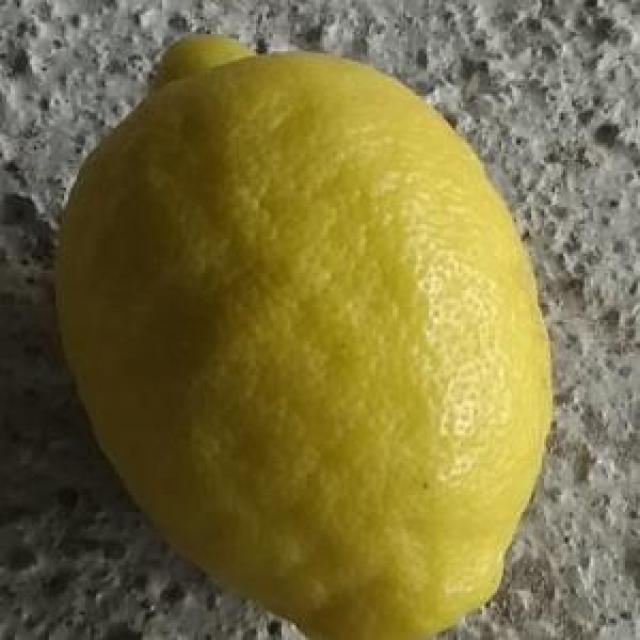lemon: (49, 31, 550, 640)
